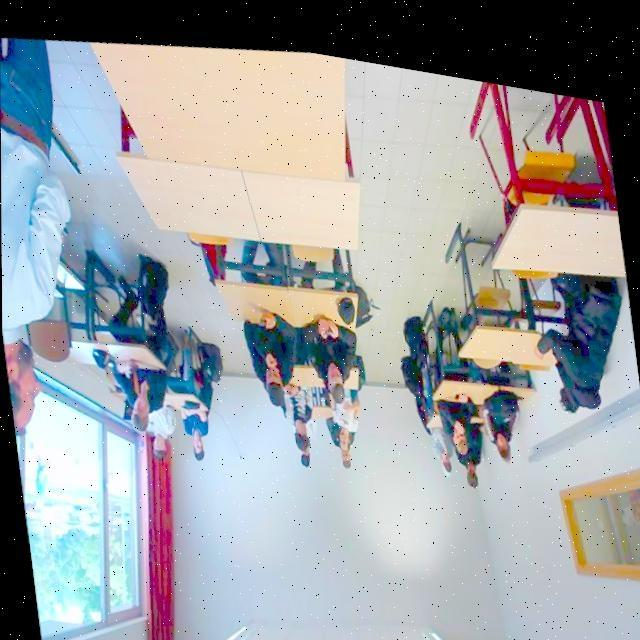daydreaming: (537, 273, 620, 410)
phone_use: (243, 310, 297, 410), (105, 354, 165, 428), (300, 315, 358, 389), (448, 401, 480, 473)
